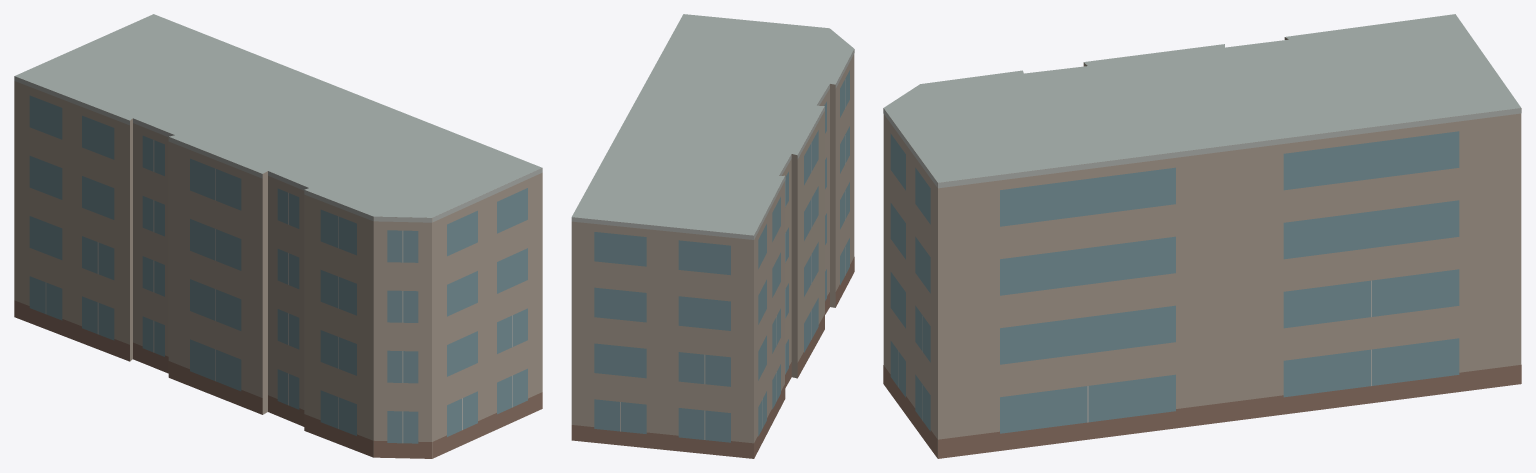
Rendered from survey-upis-32920306.glb.
3 renders of one model, left to right at view 1: azimuth 30°, elevation 25°; view 2: azimuth 150°, elevation 25°; view 3: azimuth 270°, elevation 25°, orthographic. The views are drawn at different scales.
Visible parts, largest first — view 1: survey-upis-32920306.tmp; view 2: survey-upis-32920306.tmp; view 3: survey-upis-32920306.tmp.
Boxes of the visible parts, x1,y1,x2,y2 form: survey-upis-32920306.tmp: (14,14,542,458); survey-upis-32920306.tmp: (571,14,854,458); survey-upis-32920306.tmp: (883,14,1521,458).
Bounding box in the file's own units: 16.15 × 12.3 × 25.78.
